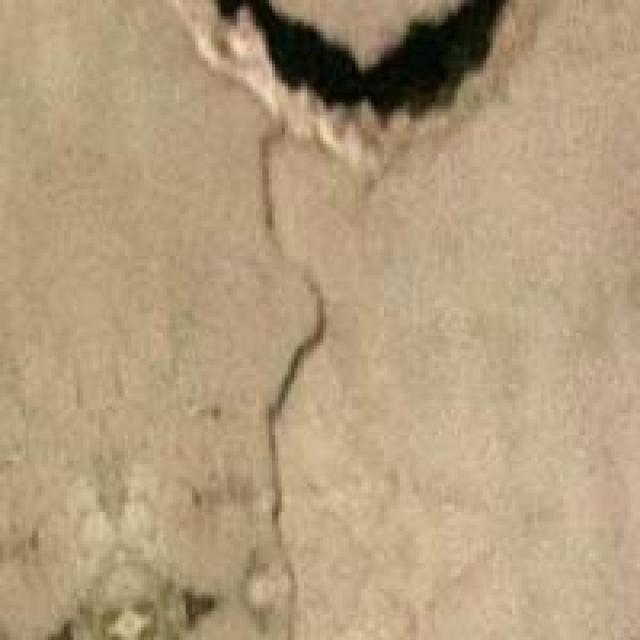crack: (189, 0, 566, 176)
